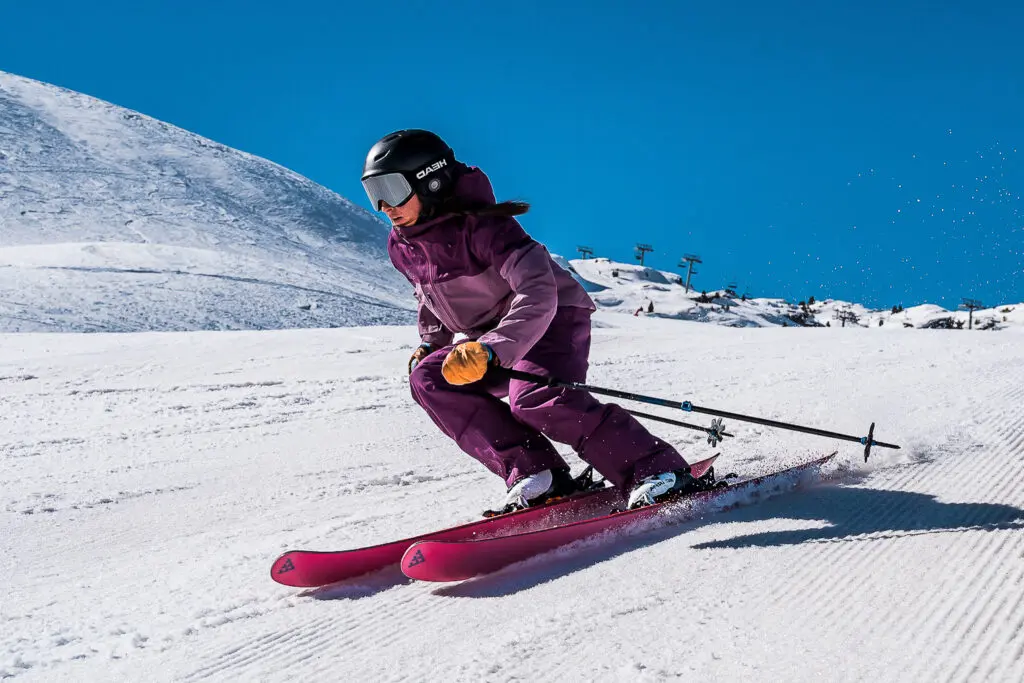skier: (268, 132, 903, 590)
